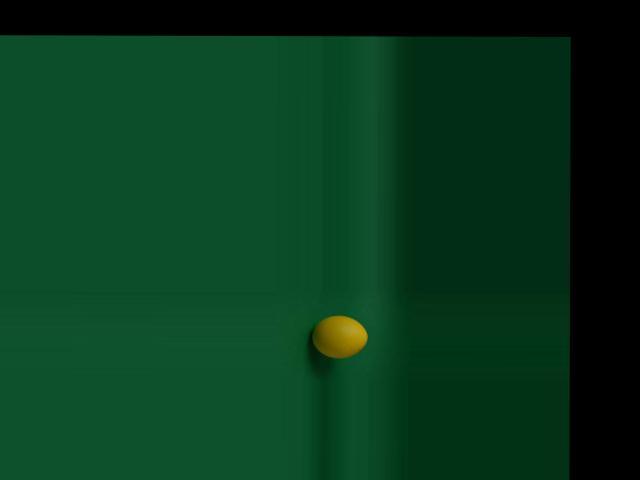egg: (311, 314, 368, 356)
